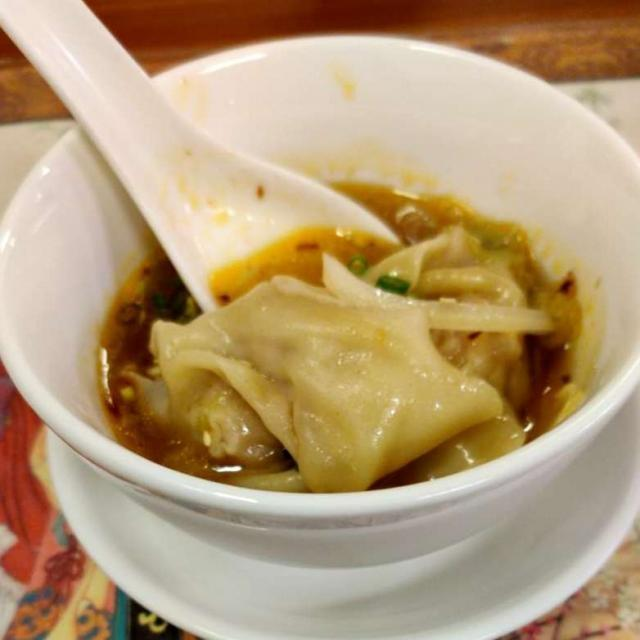bouillon: (96, 183, 584, 479)
pasta: (129, 215, 536, 483)
